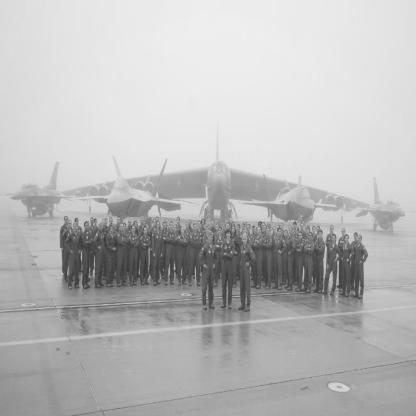B52: (61, 122, 372, 223)
F16: (6, 162, 81, 220), (349, 177, 416, 236)
F22: (76, 155, 201, 229), (240, 174, 339, 234)
